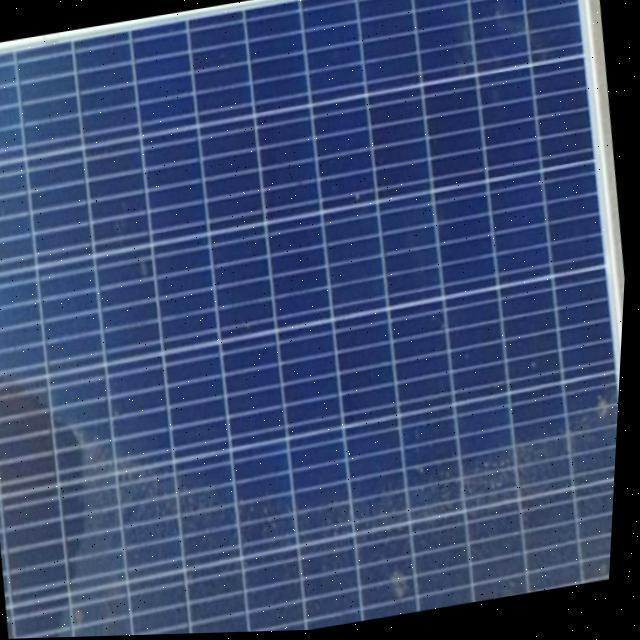Surface Contaminant: (0, 319, 624, 639)
